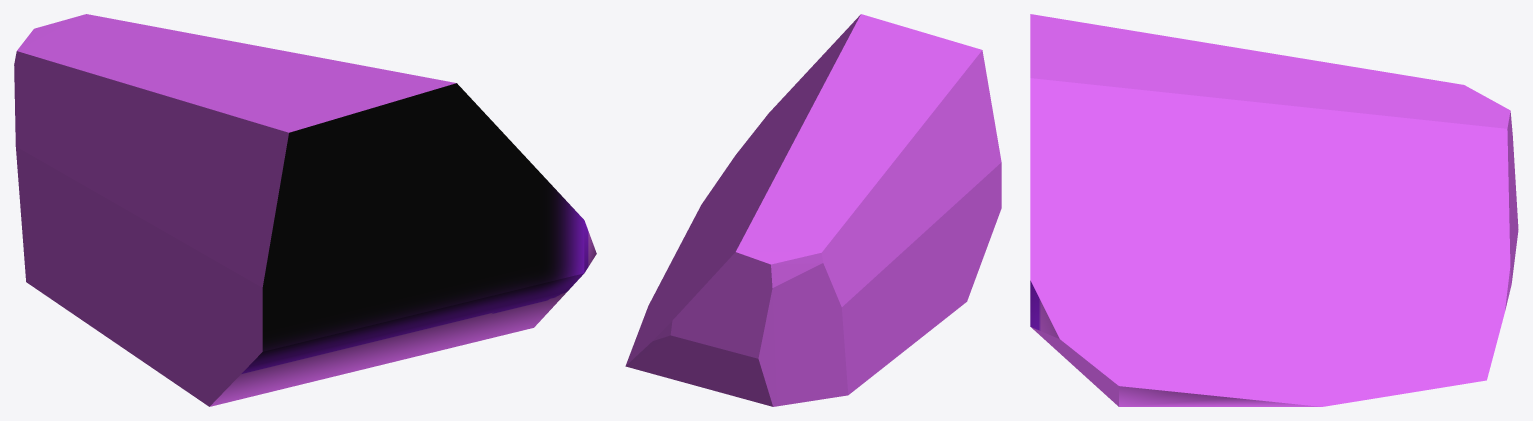
File: blockParticle_10.gltf
The picture shows the model from 3 angles, left to right: view 1: azimuth 30°, elevation 25°; view 2: azimuth 150°, elevation 25°; view 3: azimuth 270°, elevation 25°; orthographic projection. The views are drawn at different scales.
Parts seen in each view (by area): view 1: 立方体_cell.011; view 2: 立方体_cell.011; view 3: 立方体_cell.011.
Boxes of the visible parts, left/top/right/bottom form: 立方体_cell.011: left=14, top=14, right=596, bottom=406; 立方体_cell.011: left=625, top=14, right=1001, bottom=406; 立方体_cell.011: left=1030, top=14, right=1518, bottom=406.
Size of the model in its own units: 0.9162 by 0.7253 by 1.17.
2 materials, 2 textured.
